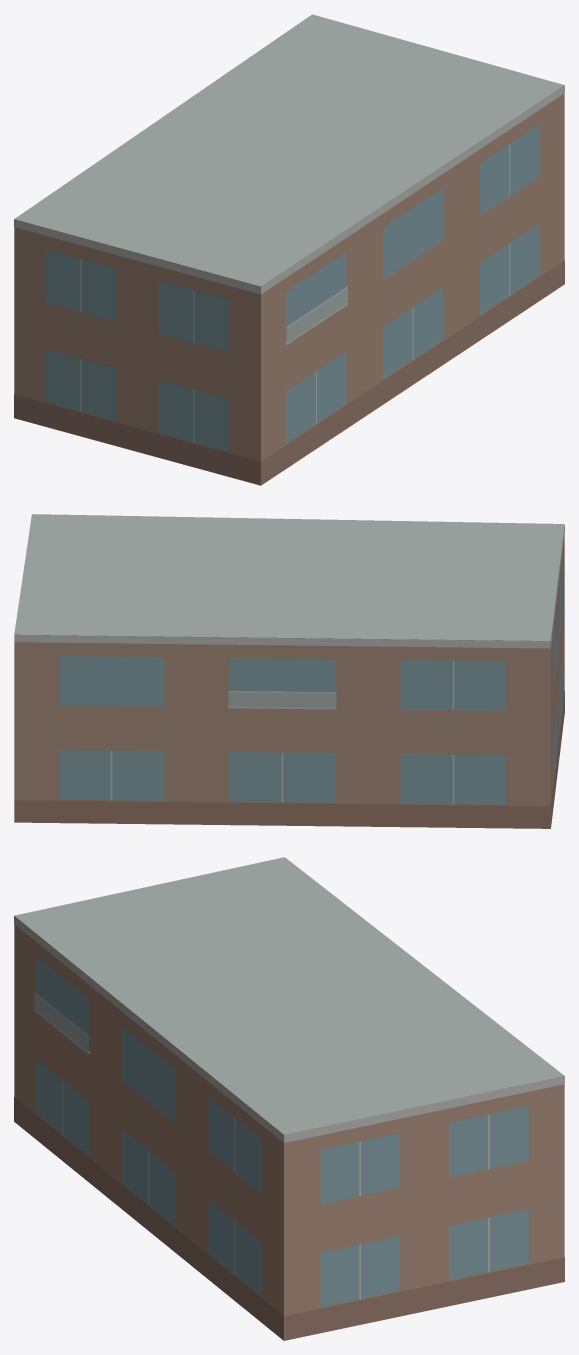
Rendered from survey-upis-32745513.glb.
3 views of the same model, one above another, from view 1: azimuth 30°, elevation 25°; view 2: azimuth 150°, elevation 25°; view 3: azimuth 270°, elevation 25° (orthographic). The views are drawn at different scales.
Visible parts, largest first — view 1: survey-upis-32745513.tmp; view 2: survey-upis-32745513.tmp; view 3: survey-upis-32745513.tmp.
Part boxes in pixels (x1=…): survey-upis-32745513.tmp: x1=14, y1=14, x2=564, y2=485; survey-upis-32745513.tmp: x1=14, y1=514, x2=564, y2=828; survey-upis-32745513.tmp: x1=14, y1=857, x2=564, y2=1340.
Size of the model in its own units: 17.66 by 6.1 by 14.79.
